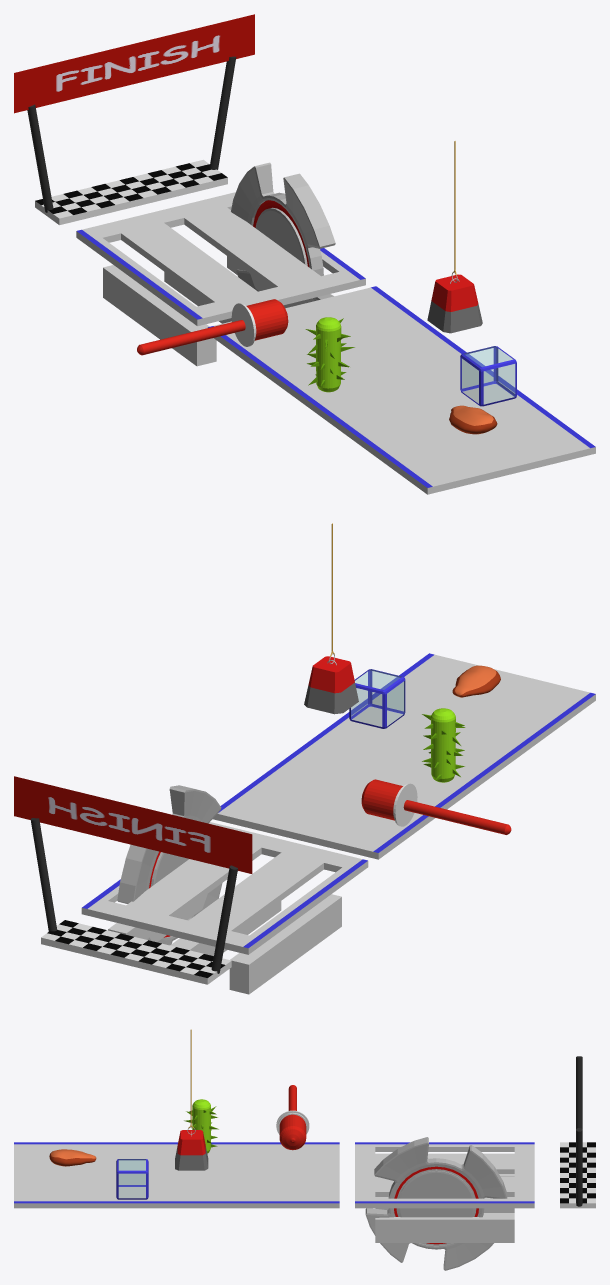
Rendered from watermolen.fbx.
3 renders of one model, top to bottom at view 1: azimuth 30°, elevation 25°; view 2: azimuth 150°, elevation 25°; view 3: azimuth 270°, elevation 25°, orthographic. The views are drawn at different scales.
Parts seen in each view (by area): view 1: duzyol, carklıyol, bayrak, cark, bıtıscızgısı, carklıyol.003, tokmak, küp, agirlik, kaktus, direkler, seed; view 2: duzyol, carklıyol, bayrak, bıtıscızgısı, carklıyol.003, cark, tokmak, küp, agirlik, kaktus, direkler, seed (+2 smaller); view 3: duzyol, cark, carklıyol, carklıyol.001, bıtıscızgısı, küp, tokmak, agirlik, direkler, kaktus, seed.
Part boxes in pixels (x1,y1,x2,y2): duzyol: [207, 286, 595, 494]; carklıyol: [76, 192, 365, 326]; bayrak: [14, 14, 254, 113]; cark: [231, 162, 335, 301]; bıtıscızgısı: [35, 159, 227, 225]; carklıyol.003: [103, 265, 216, 366]; tokmak: [137, 299, 288, 355]; küp: [460, 346, 516, 406]; agirlik: [427, 272, 482, 333]; kaktus: [305, 317, 354, 392]; direkler: [27, 56, 236, 212]; seed: [449, 405, 497, 434]; duzyol: [213, 653, 595, 859]; carklıyol: [81, 822, 368, 954]; bayrak: [14, 776, 252, 873]; bıtıscızgısı: [41, 920, 231, 984]; carklıyol.003: [229, 894, 341, 994]; cark: [117, 785, 222, 945]; tokmak: [361, 779, 511, 834]; küp: [349, 669, 405, 728]; agirlik: [304, 653, 358, 714]; kaktus: [422, 708, 465, 782]; direkler: [30, 818, 237, 973]; seed: [452, 665, 500, 697]; duzyol: [14, 1142, 339, 1208]; cark: [365, 1137, 507, 1270]; carklıyol: [355, 1142, 534, 1208]; carklıyol.001: [375, 1213, 514, 1242]; bıtıscızgısı: [560, 1142, 595, 1208]; küp: [116, 1159, 148, 1199]; tokmak: [276, 1085, 309, 1150]; agirlik: [175, 1127, 208, 1170]; direkler: [576, 1056, 582, 1206]; kaktus: [184, 1099, 218, 1153]; seed: [49, 1149, 96, 1166].
Bounding box in the file's own units: 368 × 367 × 807.
Materials: 20 (1 with a texture image).
